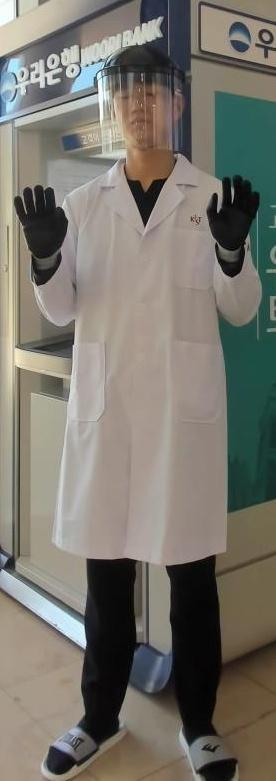lab_coat: (69, 172, 215, 554)
